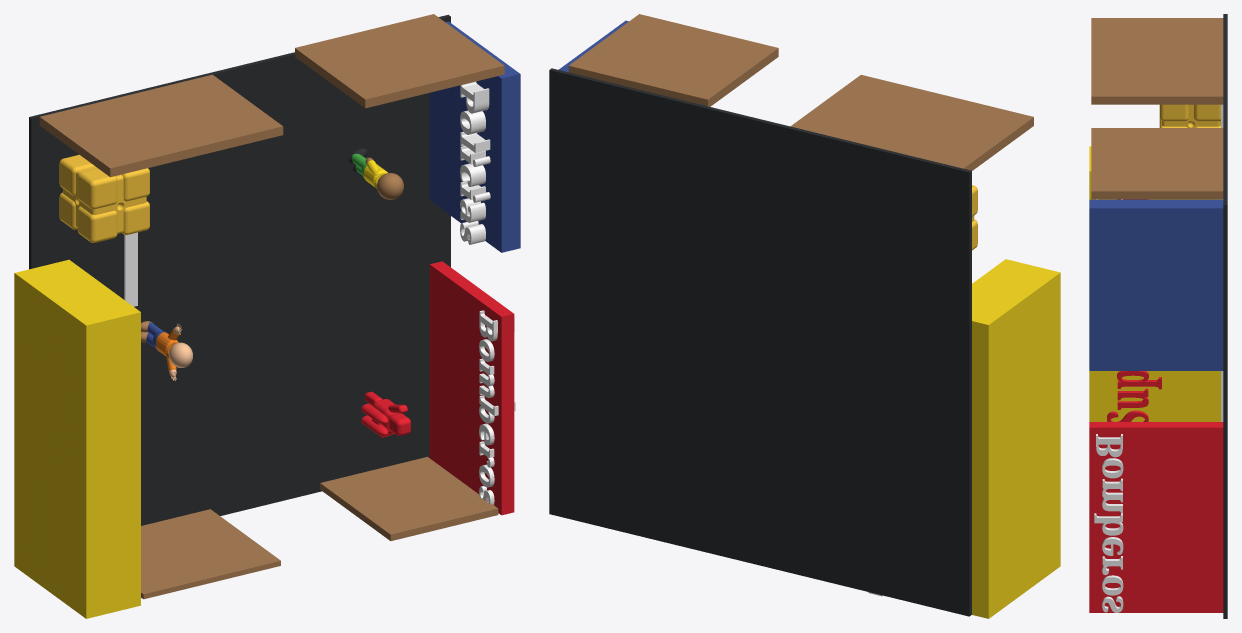
Rendered from tinker.obj.
3 views of the same model, side by side, from view 1: azimuth 30°, elevation 25°; view 2: azimuth 150°, elevation 25°; view 3: azimuth 270°, elevation 25° (orthographic). The views are drawn at different scales.
Visible parts, largest first — view 1: group_0_2829873, group_0_11107152, group_0_16768282, group_0_15277357, group_0_3888547, group_0_16448250, group_0_16435001; view 2: group_0_2829873, group_0_16768282, group_0_11107152; view 3: group_0_15277357, group_0_3888547, group_0_11107152, group_0_16768282, group_0_16448250, group_0_2829873, group_0_16435001.
Part boxes in pixels (x1,y1,x2,y2): group_0_2829873: [29, 14, 450, 525]; group_0_11107152: [39, 14, 504, 599]; group_0_16768282: [14, 160, 387, 618]; group_0_15277357: [361, 261, 514, 515]; group_0_3888547: [146, 21, 520, 350]; group_0_16448250: [124, 81, 515, 504]; group_0_16435001: [59, 154, 149, 242]; group_0_2829873: [549, 68, 971, 616]; group_0_16768282: [972, 259, 1060, 618]; group_0_11107152: [568, 14, 1033, 170]; group_0_15277357: [1089, 199, 1223, 612]; group_0_3888547: [1089, 199, 1223, 370]; group_0_11107152: [1091, 18, 1223, 199]; group_0_16768282: [1089, 146, 1220, 421]; group_0_16448250: [1094, 104, 1223, 612]; group_0_2829873: [1223, 14, 1227, 618]; group_0_16435001: [1159, 104, 1220, 127].
Size of the model in its own units: 207 by 206 by 61.
